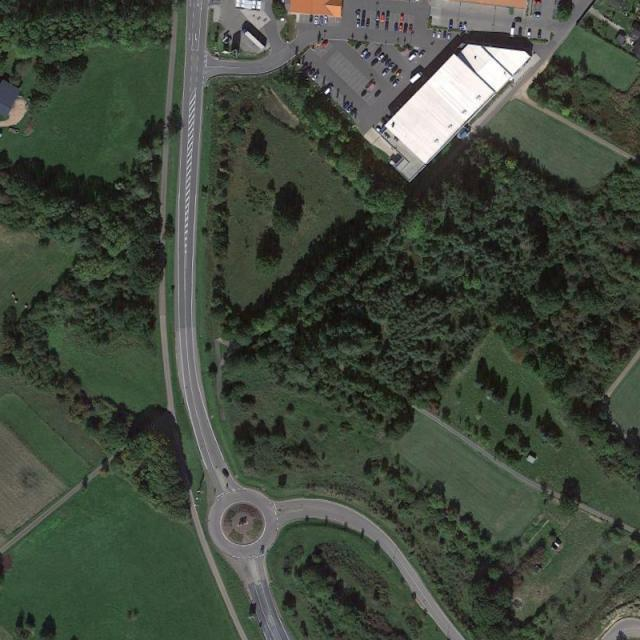vehicle: (241, 27, 266, 51), (409, 71, 424, 85), (322, 85, 334, 96), (408, 51, 418, 62), (311, 72, 319, 82), (382, 68, 390, 77), (360, 89, 368, 98), (360, 50, 369, 58), (308, 67, 316, 76), (374, 48, 382, 57), (222, 469, 230, 478), (382, 54, 389, 64), (301, 62, 309, 70), (374, 90, 382, 98), (346, 106, 354, 114), (370, 58, 378, 66), (364, 52, 372, 60), (354, 42, 362, 50), (384, 58, 392, 66), (388, 62, 396, 70), (391, 65, 399, 73), (350, 108, 357, 117), (393, 79, 400, 88), (510, 27, 515, 39), (343, 101, 350, 109), (304, 66, 311, 74), (396, 69, 403, 77), (378, 54, 385, 62), (419, 50, 426, 58), (408, 25, 414, 34), (403, 24, 408, 34), (390, 75, 397, 82), (322, 40, 329, 47), (361, 19, 366, 27), (386, 12, 390, 22), (314, 17, 318, 26), (319, 16, 323, 25), (324, 16, 328, 25), (394, 23, 398, 32), (399, 24, 403, 33), (459, 22, 463, 31), (538, 32, 542, 41), (310, 14, 314, 23), (381, 14, 385, 22), (362, 10, 366, 18), (357, 20, 361, 28), (366, 18, 370, 26), (377, 13, 381, 21), (385, 22, 389, 30), (432, 30, 436, 38), (438, 30, 442, 38), (447, 32, 451, 40), (449, 22, 453, 30), (514, 18, 522, 22), (533, 14, 541, 18), (260, 546, 264, 554), (401, 14, 404, 23), (357, 10, 360, 18), (376, 22, 379, 30), (463, 23, 466, 31), (443, 30, 446, 38), (528, 32, 531, 40)
